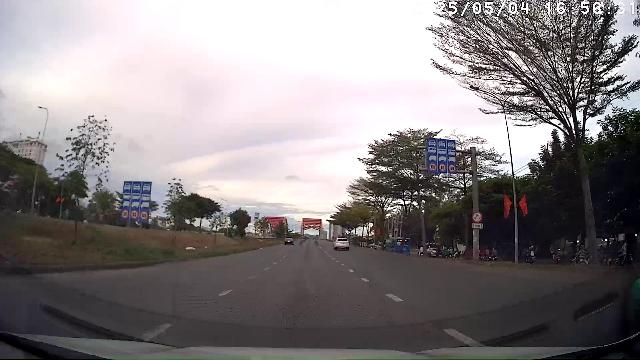127-toc-do-toi-da-60: (429, 162, 436, 172), (438, 164, 446, 170), (449, 165, 455, 171)
